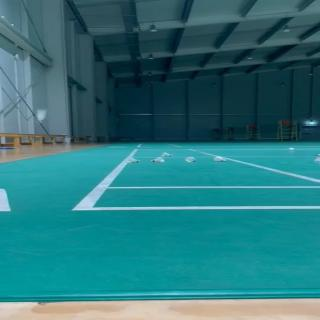Shuttle: (126, 156, 140, 163), (150, 156, 164, 162), (213, 156, 227, 162), (185, 156, 197, 162), (163, 152, 173, 157), (314, 153, 320, 161), (288, 147, 294, 151)
